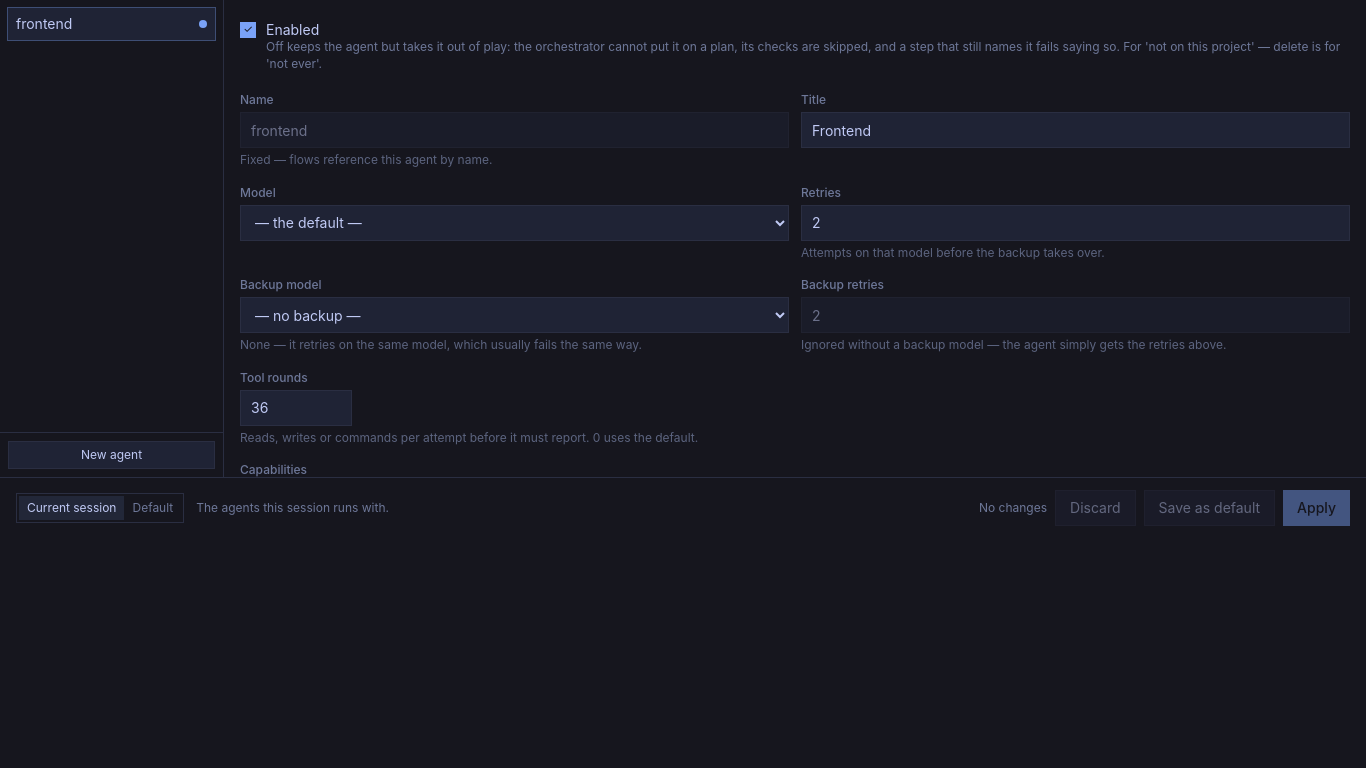
Test: editing what new projects start from › asks the defaults instead of the project when switched
This screenshot has width=1366, height=768.
Check: the field showing "frontend" is shown, box top-left (240, 112), bottom-right (789, 148)
Click the button "Default".
click(153, 508)  # box top-left (124, 496), bottom-right (181, 520)
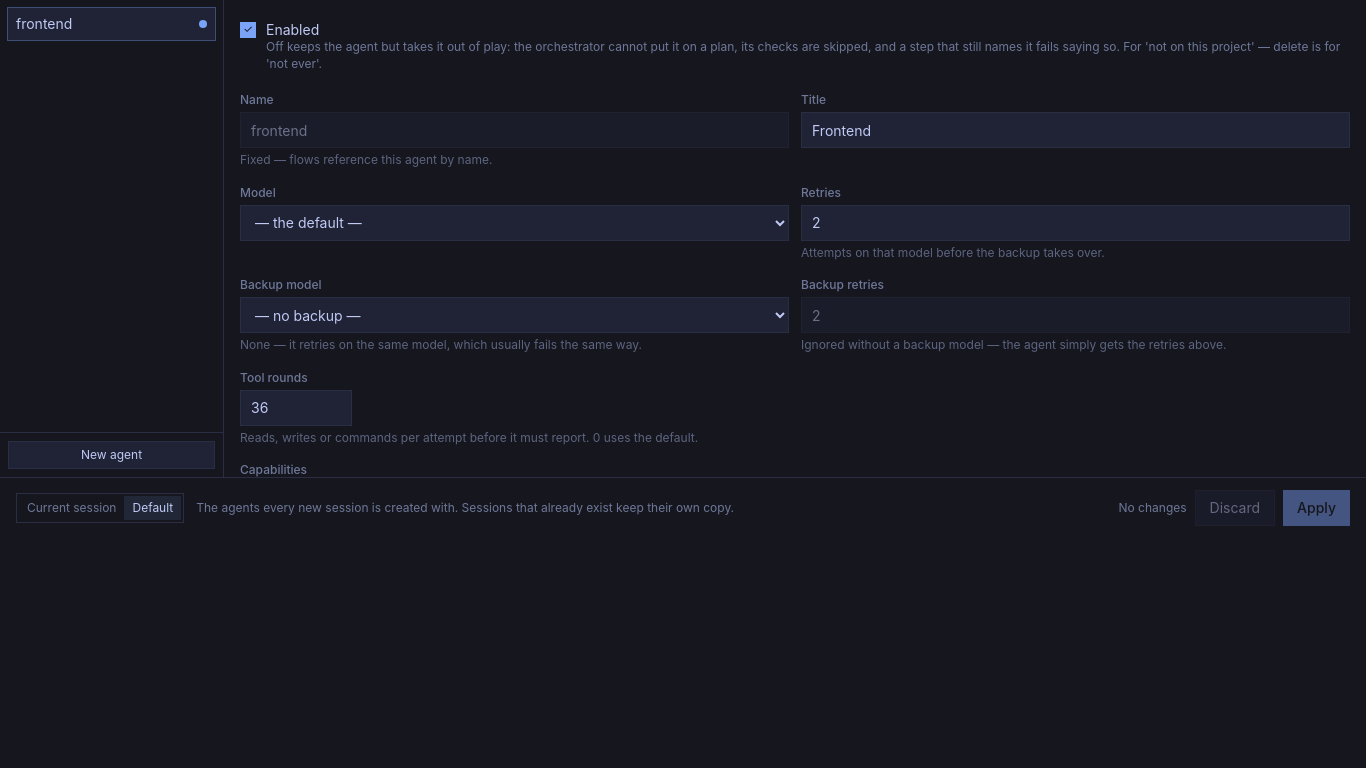
Check: the text "every new session is created with" is shown, box top-left (196, 500), bottom-right (734, 515)
